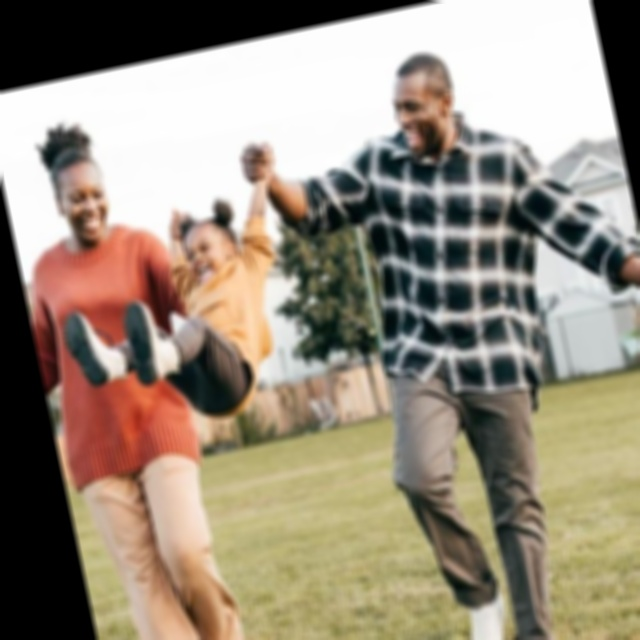Sin_Casco_Mascarrilla: (381, 48, 467, 165), (41, 141, 121, 251)
Sin_Chaleco: (336, 113, 562, 424), (19, 221, 201, 493)
